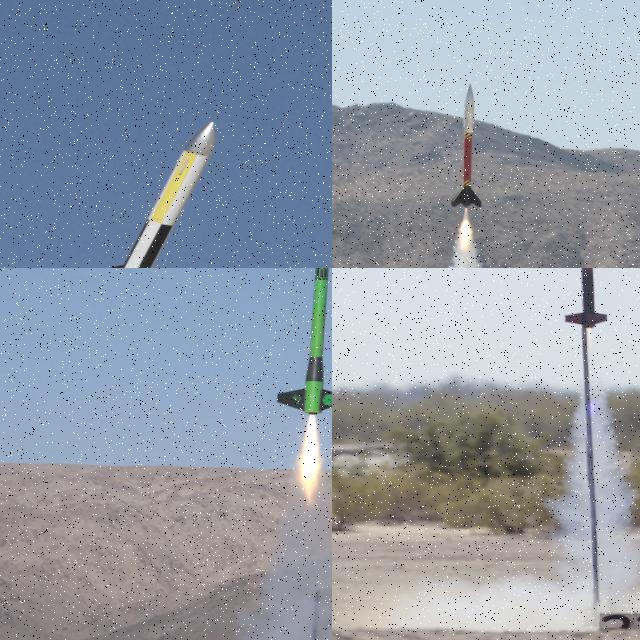Rocket: (57, 120, 217, 268), (275, 268, 332, 416), (450, 82, 483, 209), (565, 268, 609, 331)
